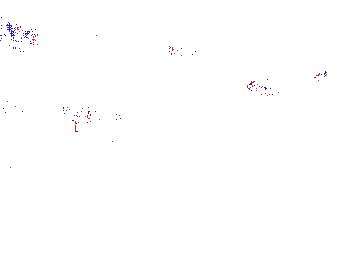X-ray fish: (185, 1, 241, 37)
glassfish: (1, 90, 57, 140), (71, 106, 144, 134)
red belly glassfish: (245, 80, 289, 97), (166, 43, 197, 58), (304, 69, 328, 83)
redtail glassfish: (61, 105, 114, 147), (1, 24, 39, 50)
